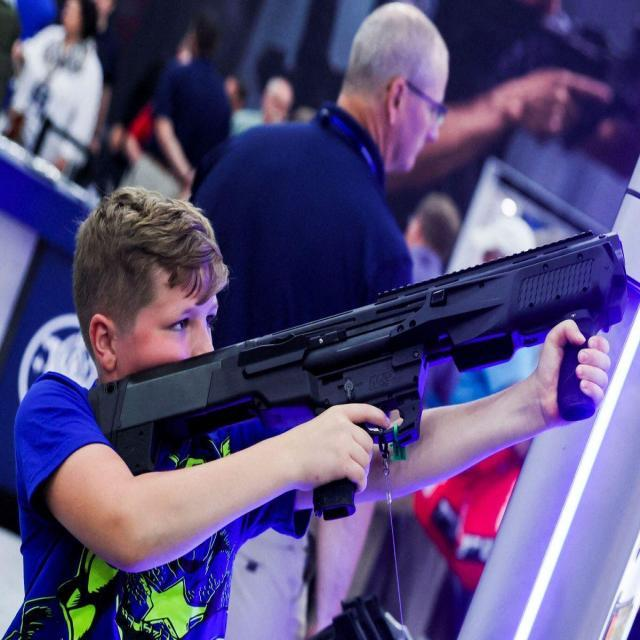weapon: (84, 228, 632, 524)
